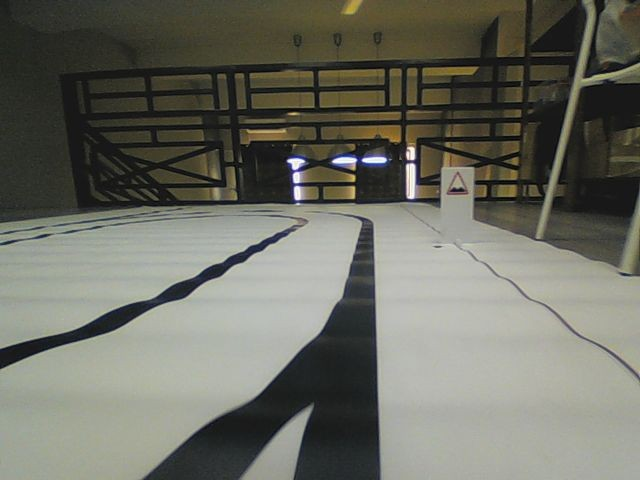Nerov: (445, 169, 468, 196)
